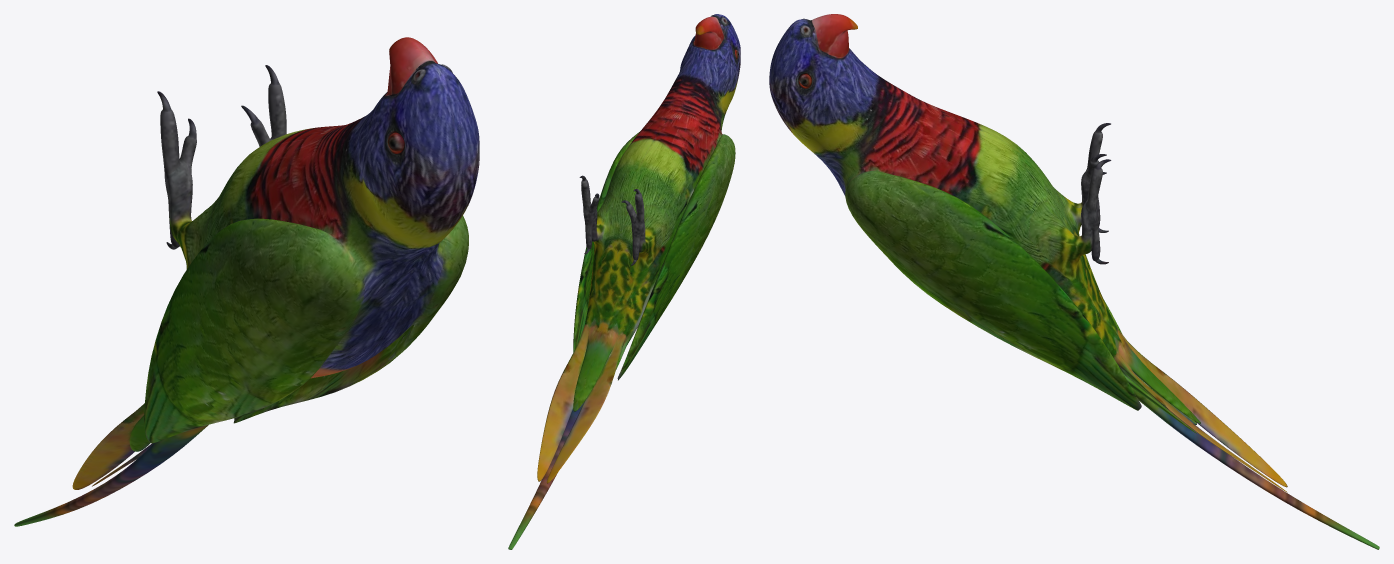
The model's file is loriquet.glb.
3 views of the same model, side by side, from view 1: azimuth 30°, elevation 25°; view 2: azimuth 150°, elevation 25°; view 3: azimuth 270°, elevation 25° (orthographic). The views are drawn at different scales.
Parts seen in each view (by area): view 1: 12242_Australian_Rainbow_Lorikeet; view 2: 12242_Australian_Rainbow_Lorikeet; view 3: 12242_Australian_Rainbow_Lorikeet.
Part boxes in pixels (box(x1,y1,x2,y2)): 12242_Australian_Rainbow_Lorikeet: box(14, 37, 479, 526); 12242_Australian_Rainbow_Lorikeet: box(508, 14, 740, 549); 12242_Australian_Rainbow_Lorikeet: box(769, 14, 1379, 549).
Bounding box in the file's own units: 14.65 × 54.18 × 56.05.
1 material, 1 textured.
